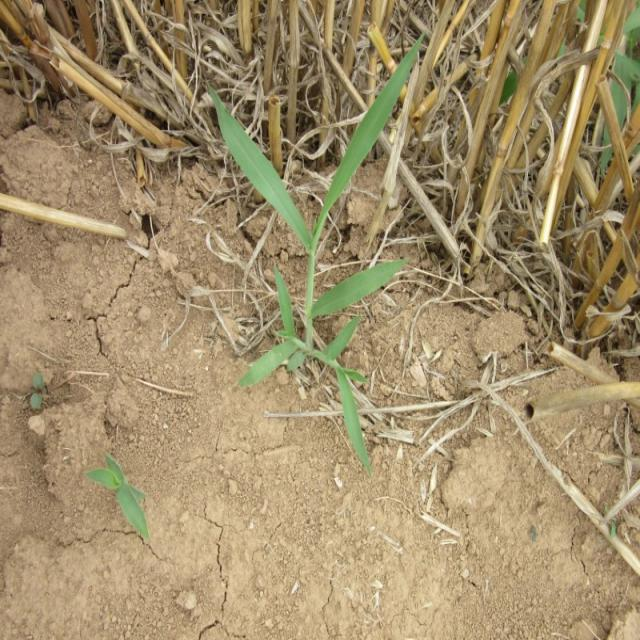bg: (211, 36, 424, 471)
